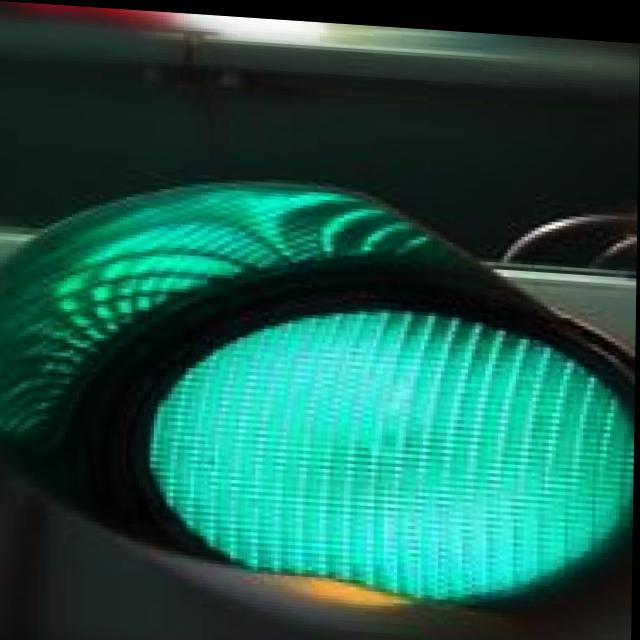green_light: (102, 149, 638, 640)
